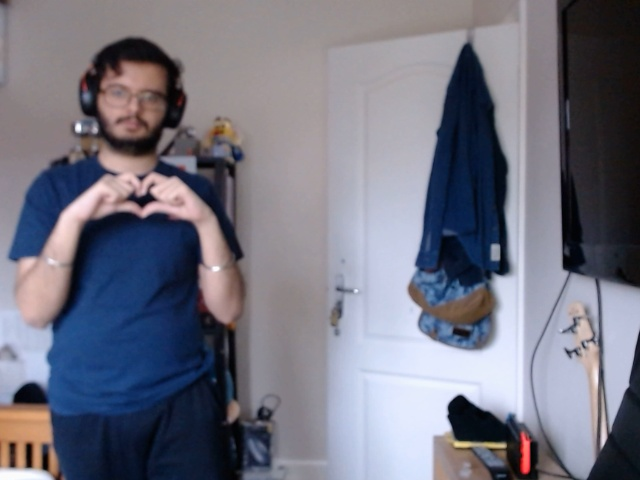Heart: (96, 165, 186, 225)
